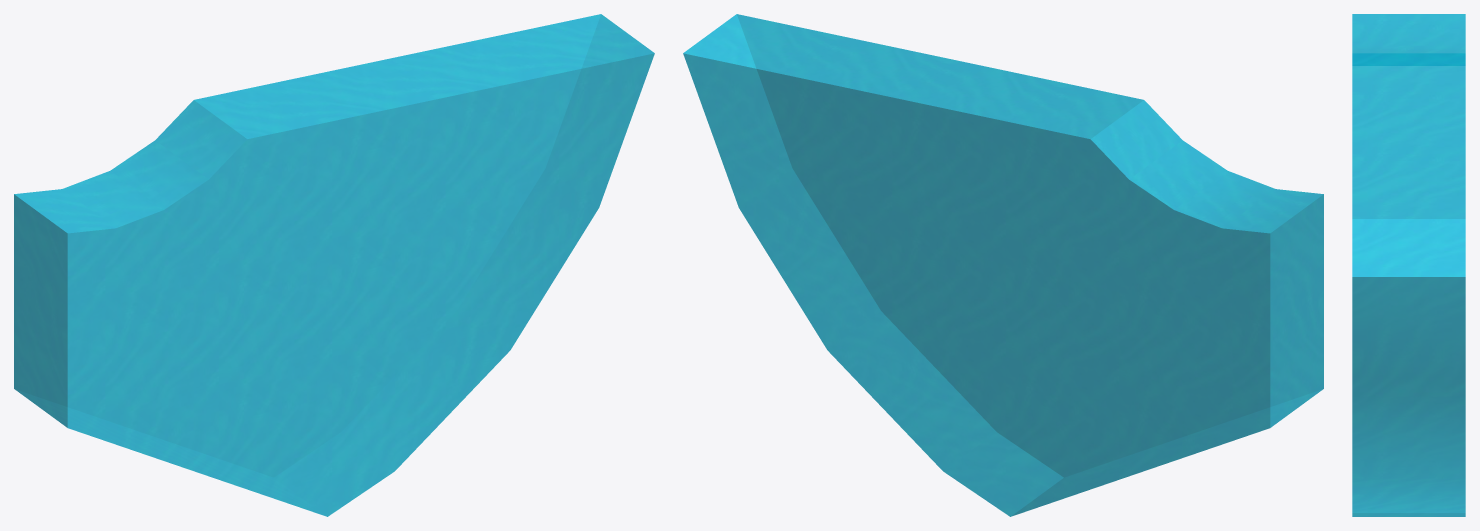
Rendered from GlassPart_02.fbx.
3 renders of one model, left to right at view 1: azimuth 30°, elevation 25°; view 2: azimuth 150°, elevation 25°; view 3: azimuth 270°, elevation 25°, orthographic. The views are drawn at different scales.
Parts seen in each view (by area): view 1: Model; view 2: Model; view 3: Model.
Part boxes in pixels (x1,y1,x2,y2): Model: (14, 14, 654, 516); Model: (683, 14, 1323, 516); Model: (1352, 14, 1465, 516).
Bounding box in the file's own units: 3.16 × 2.04 × 0.5.
